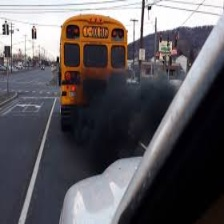smoke: (86, 85, 171, 145)
